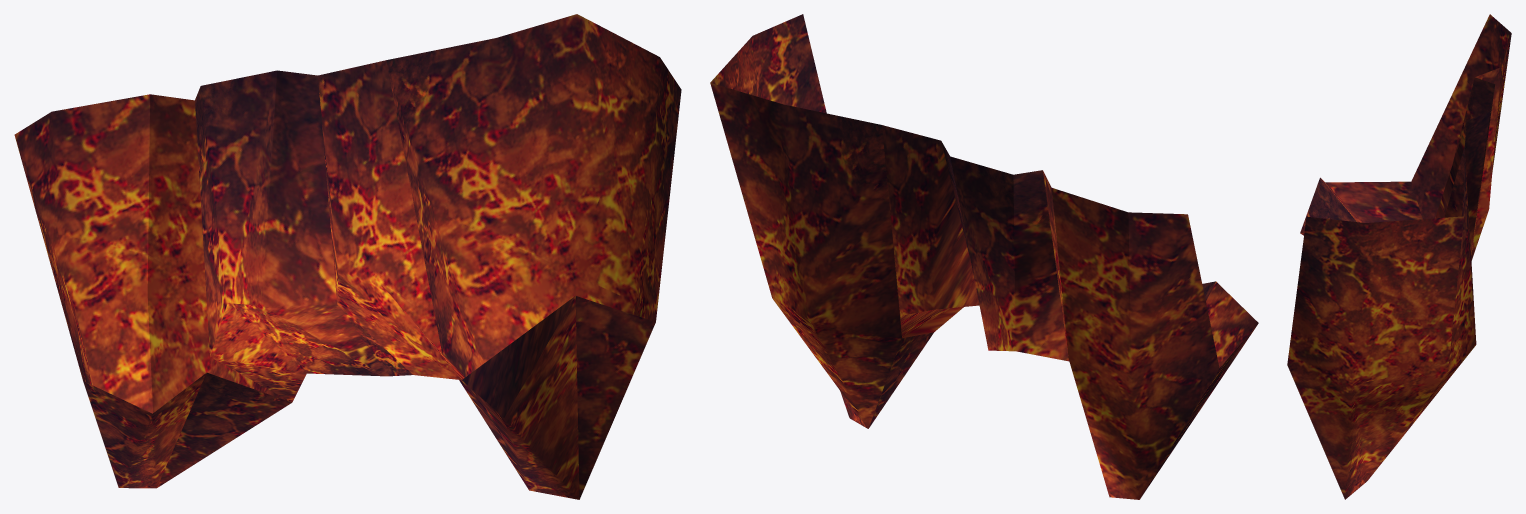
Rendered from Scene_rongyan_016.FBX.
The picture shows the model from 3 angles, left to right: view 1: azimuth 30°, elevation 25°; view 2: azimuth 150°, elevation 25°; view 3: azimuth 270°, elevation 25°; orthographic projection. The views are drawn at different scales.
Parts seen in each view (by area): view 1: Scene_rongyan_016; view 2: Scene_rongyan_016; view 3: Scene_rongyan_016.
Part boxes in pixels (x1,y1,x2,y2): Scene_rongyan_016: [14, 14, 681, 499]; Scene_rongyan_016: [710, 14, 1258, 499]; Scene_rongyan_016: [1287, 14, 1511, 499].
Bounding box in the file's own units: 10.15 × 7.06 × 4.61.
